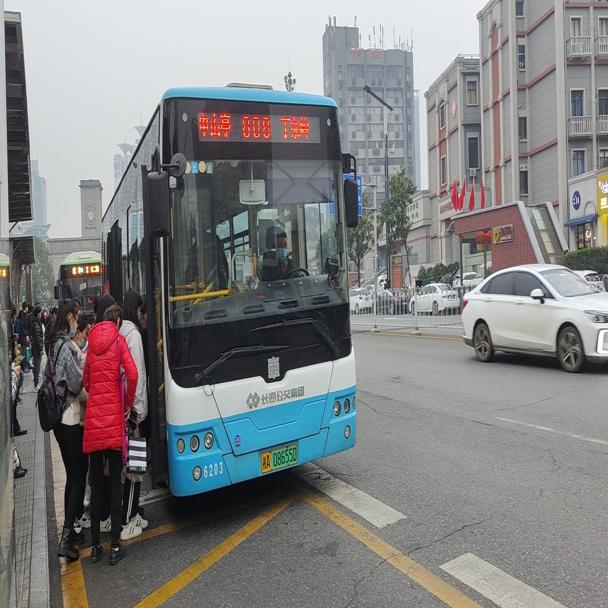bus: (100, 78, 362, 496), (56, 240, 101, 319)
screen: (234, 108, 276, 139), (84, 261, 88, 274)
